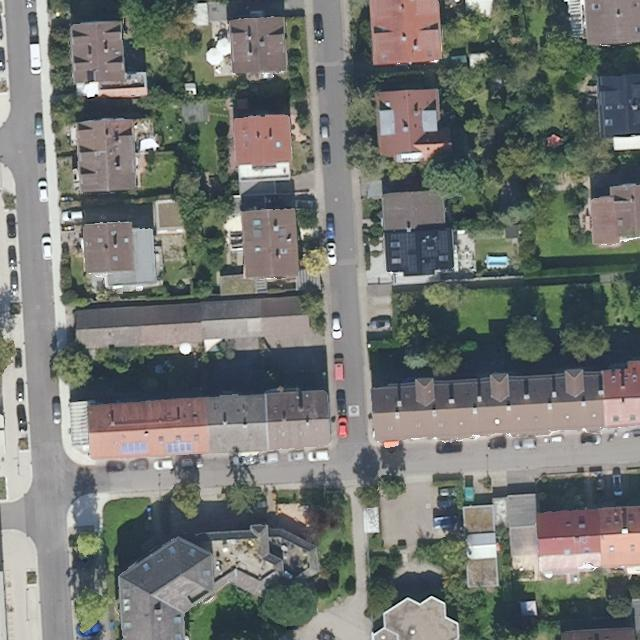PV: (388, 232, 418, 275), (421, 229, 449, 274), (165, 440, 195, 456), (120, 441, 150, 454)
